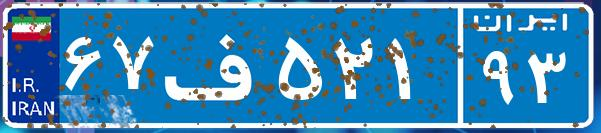1: (385, 28, 445, 110)
2: (330, 28, 385, 110)
3: (525, 38, 570, 115)
5: (273, 28, 330, 110)
6: (57, 26, 110, 107)
7: (110, 28, 158, 105)
9: (475, 38, 525, 113)
ف: (158, 15, 273, 115)
